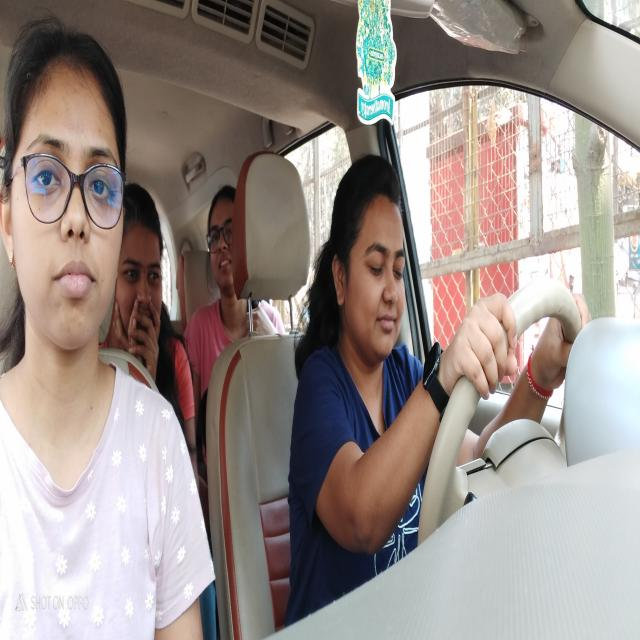drowsy: (331, 165, 409, 360)
person: (5, 43, 126, 348), (120, 186, 170, 342), (205, 190, 248, 300)
